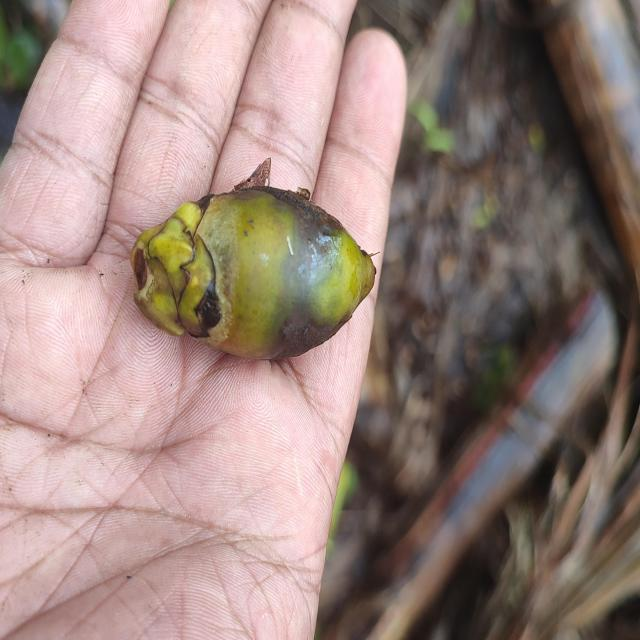damaged: (129, 181, 376, 364)
